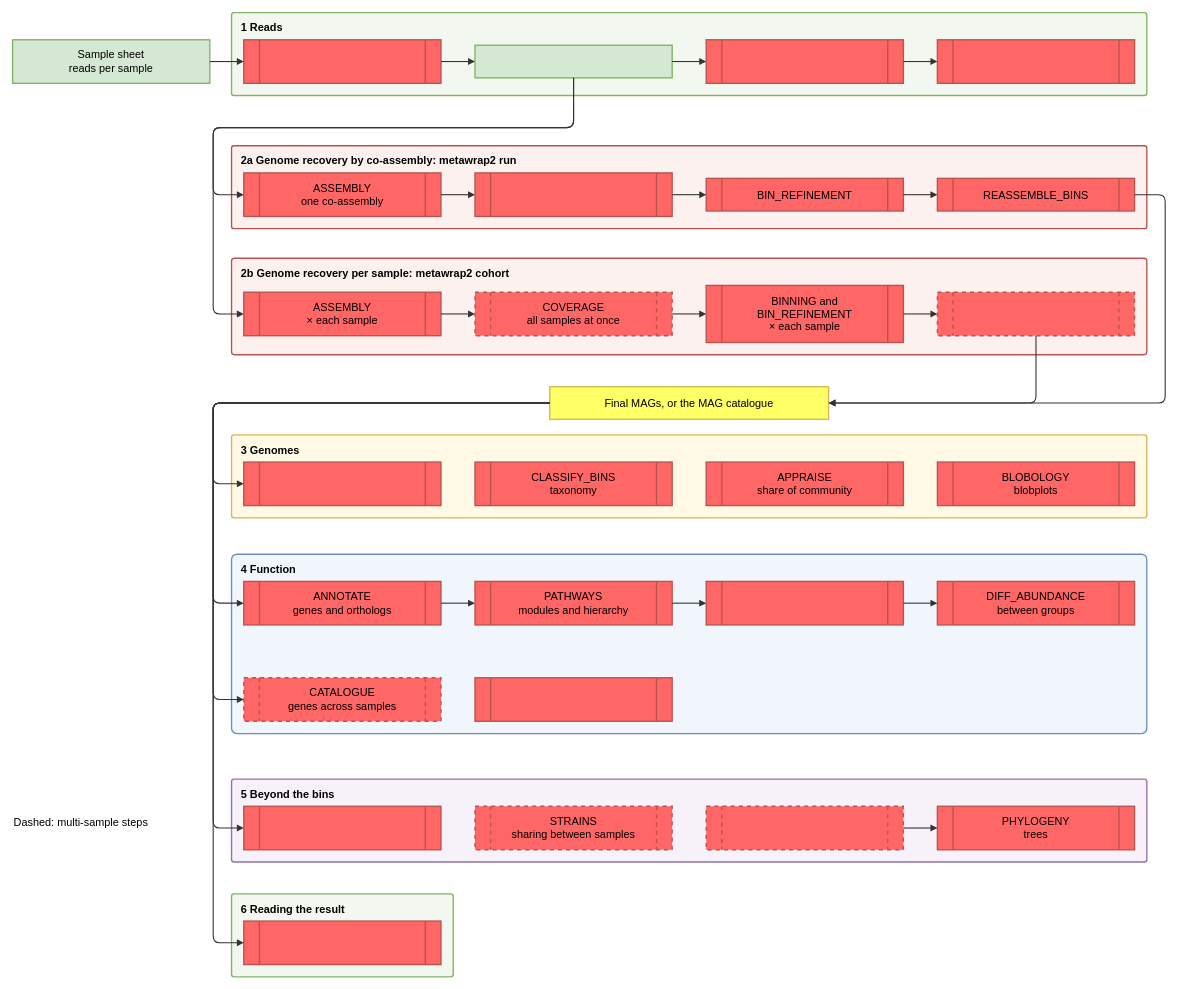
The diagram is 1183 pixels wide and 989 high, and some of its shapes have lost their labels. The shapes that lost their labels are listed below. From the top down, each one's centre as x and y in pixels, then its label:
At pixel 342 61: "READ_QC × each sample".
At pixel 573 61: "Clean reads".
At pixel 804 61: "KRAKEN2 taxonomic profile".
At pixel 1035 61: "NONPAREIL sequencing coverage".
At pixel 573 194: "BINNING all samples' reads".
At pixel 1035 313: "DEREPLICATE one MAG per species".
At pixel 342 483: "QUANT_BINS abundance".
At pixel 804 602: "QUANTIFY_FUNCTION per sample".
At pixel 573 699: "AMR resistance in context".
At pixel 342 827: "VIRUSES phage and hosts".
At pixel 804 827: "PANGENOME per species".
At pixel 342 942: "REPORT one PDF and mag_table.tsv".
